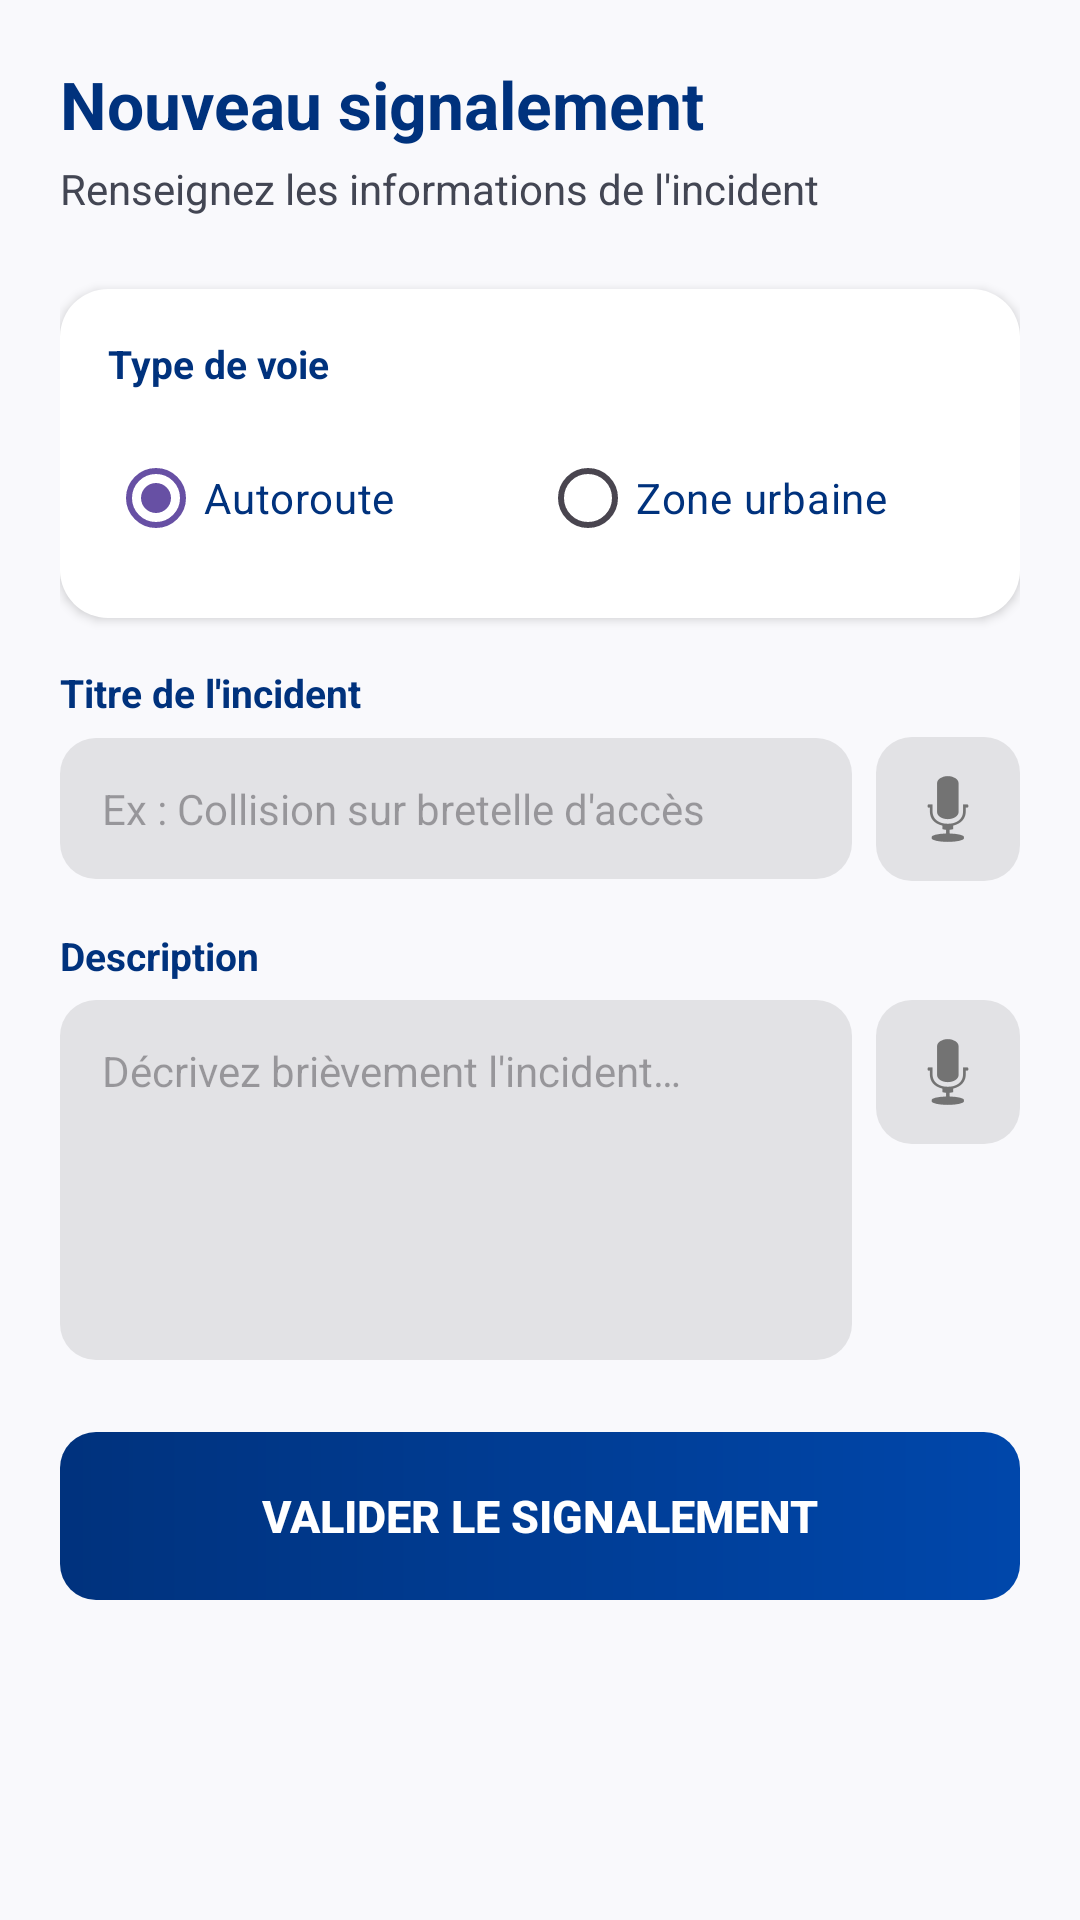

Icon bounding boxes for this 1080×1920 phone screenshot, format rect(x1, y1, x2, y2):
Saisie vocale de la description: rect(927, 1039, 969, 1105)
Saisie vocale du titre: rect(927, 776, 969, 842)
